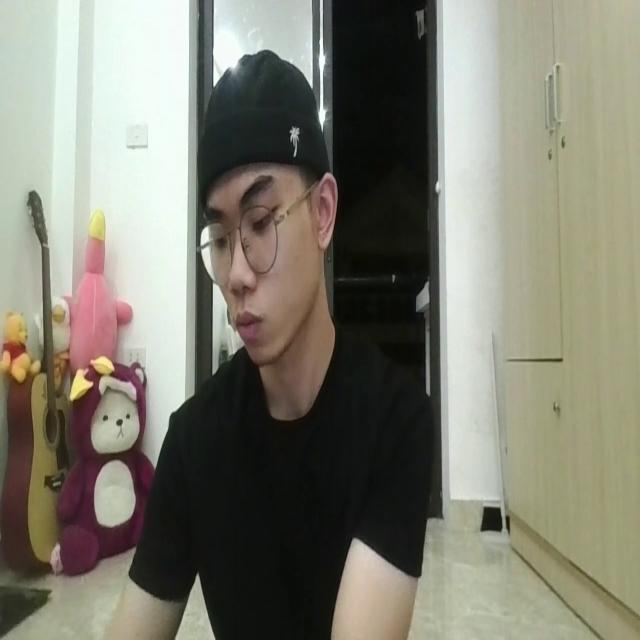student: (104, 50, 432, 640)
